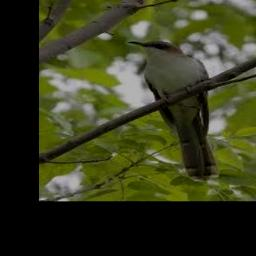Cuckoo: (128, 40, 219, 180)
